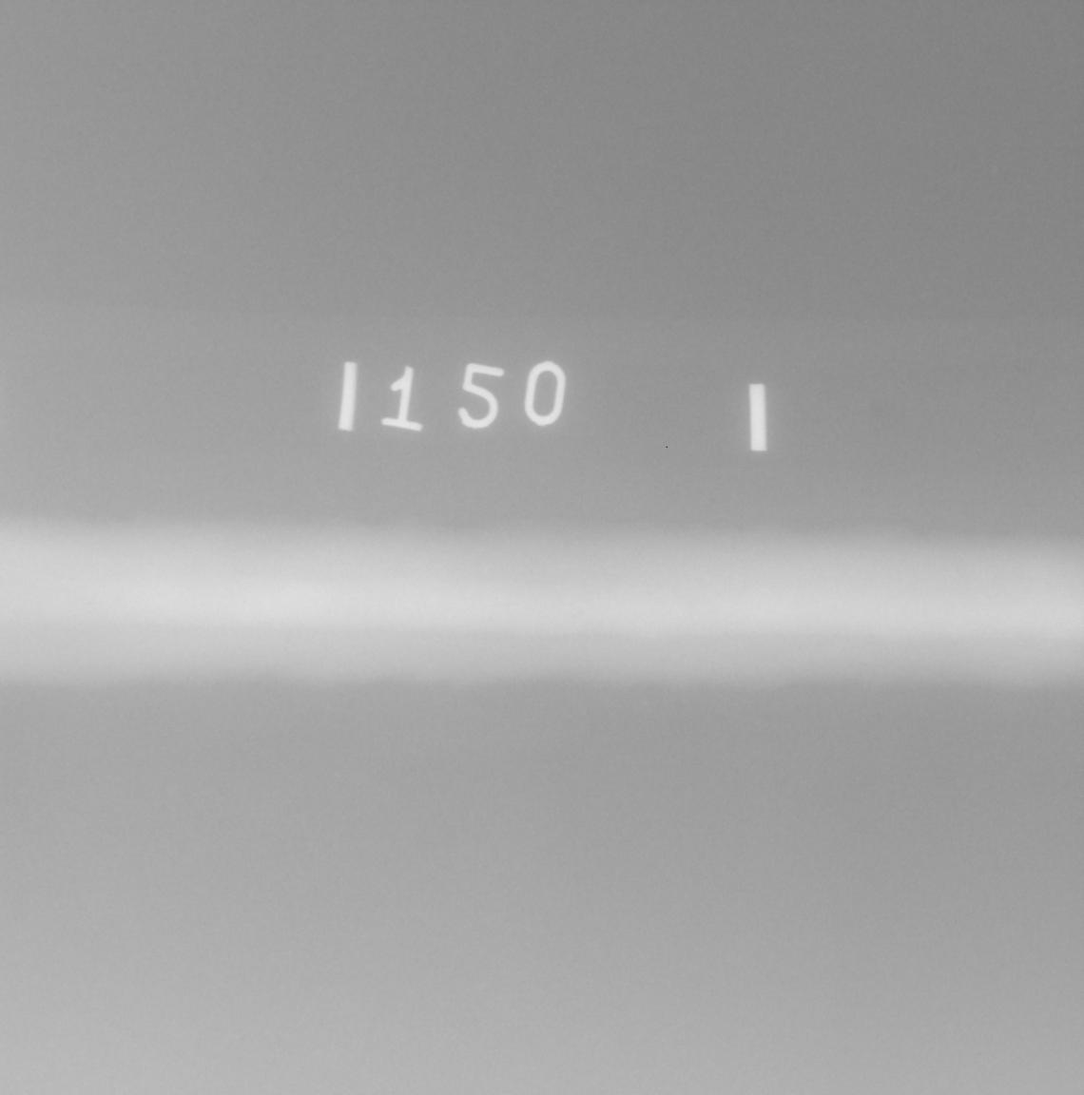Pore/Porosity: (580, 611, 584, 617), (572, 615, 576, 619)
